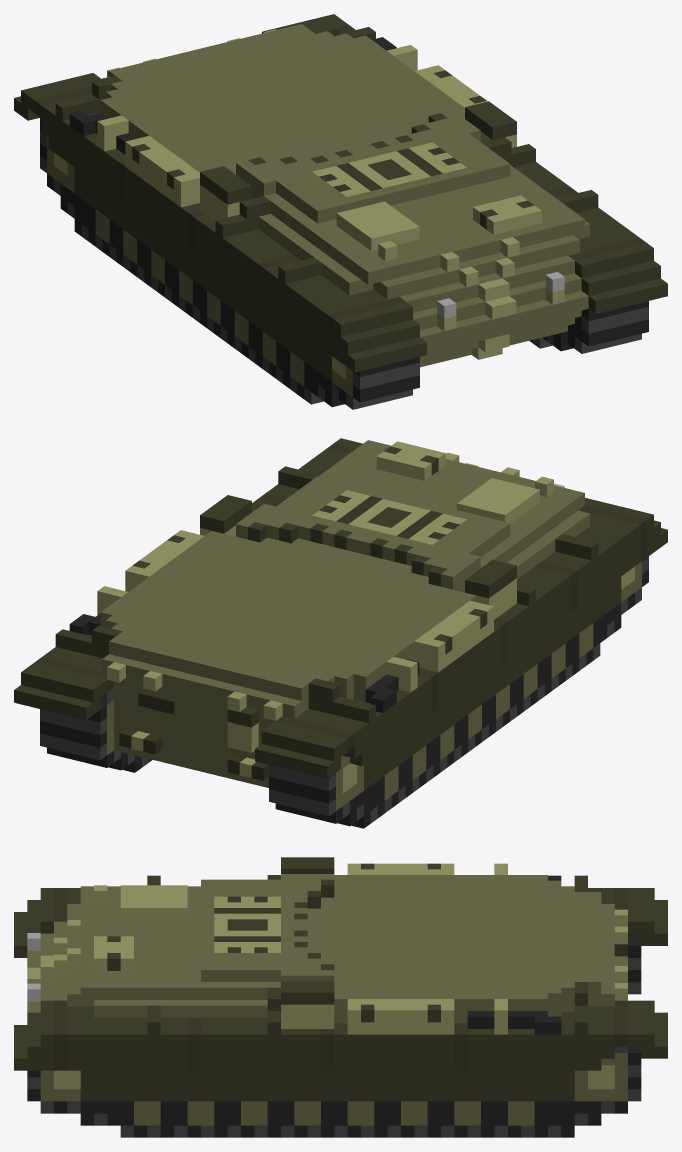
Rendered from Chassis.fbx.
The picture shows the model from 3 angles, top to bottom: view 1: azimuth 30°, elevation 25°; view 2: azimuth 150°, elevation 25°; view 3: azimuth 270°, elevation 25°; orthographic projection. The views are drawn at different scales.
Parts seen in each view (by area): view 1: Untitled; view 2: Untitled; view 3: Untitled.
Boxes of the visible parts, bbox=[...] form: Untitled: bbox=[14, 14, 667, 409]; Untitled: bbox=[14, 438, 667, 828]; Untitled: bbox=[14, 857, 667, 1137].
Bounding box in the file's own units: 260 × 120 × 490.
1 material, 1 textured.
